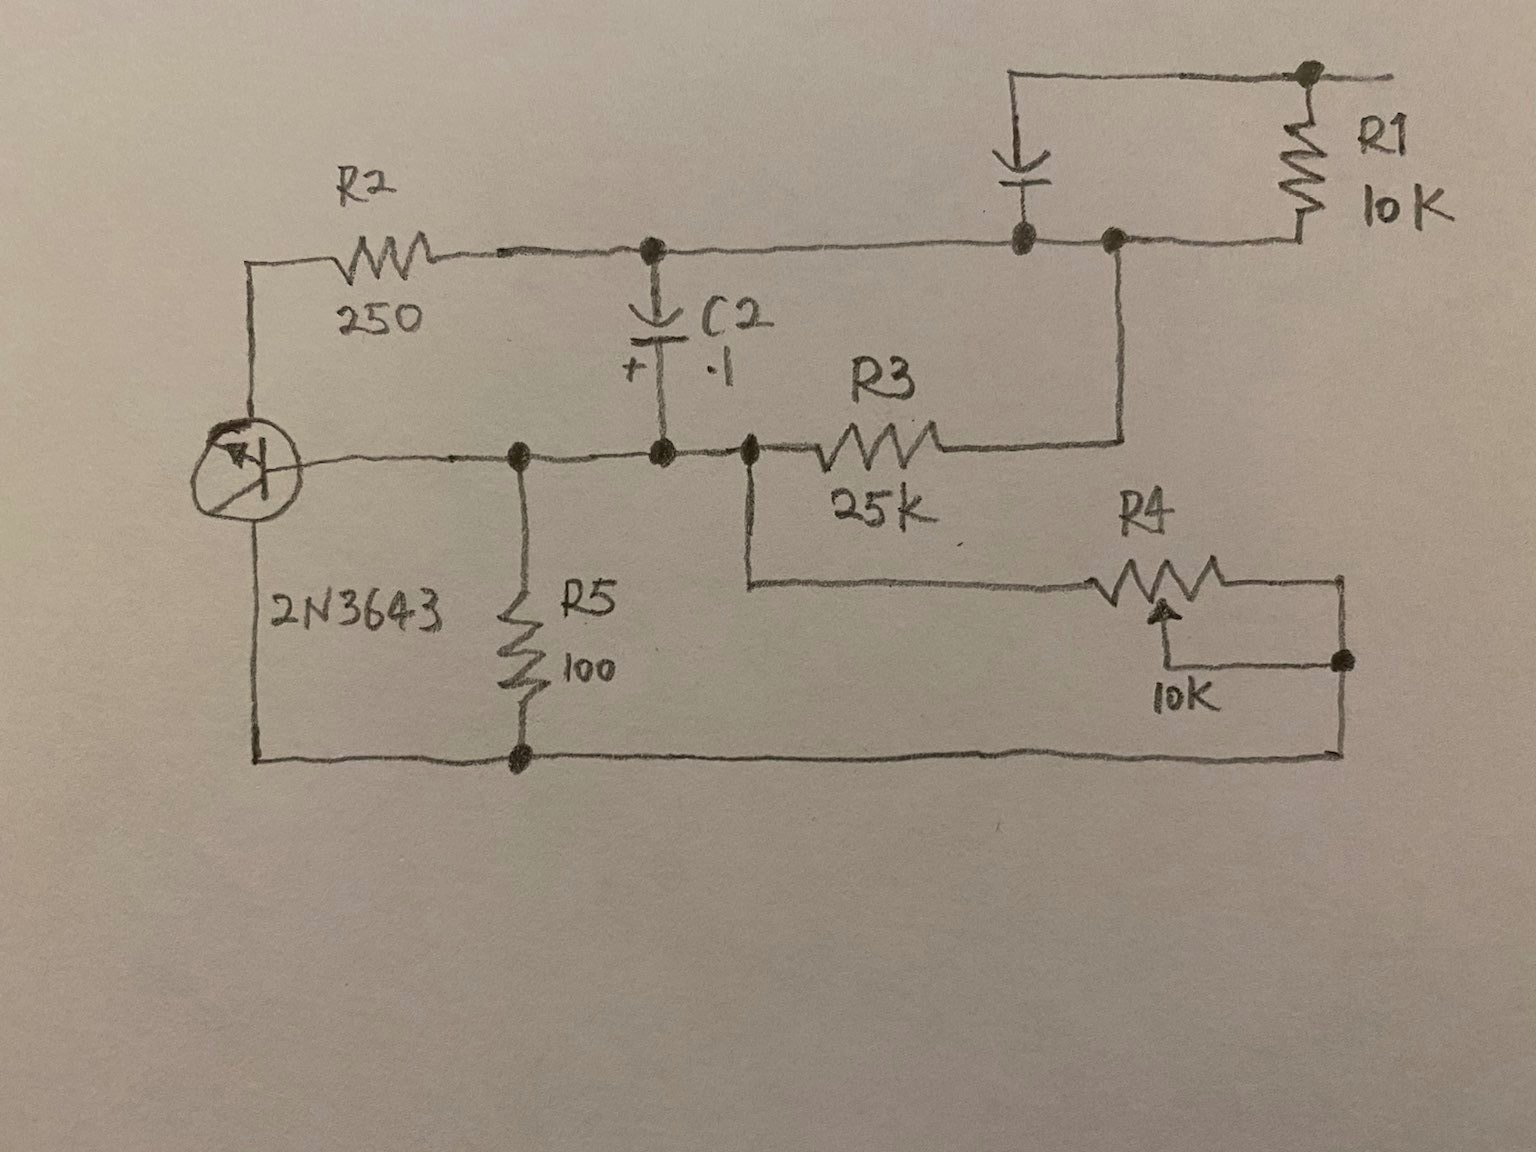capacitor.polarized: (619, 301, 692, 384)
capacitor.unpolarized: (989, 145, 1066, 190)
junction: (618, 220, 691, 277), (487, 728, 553, 790), (635, 424, 691, 482), (1089, 215, 1144, 263), (999, 211, 1049, 263), (491, 432, 545, 479), (1286, 48, 1335, 99), (1317, 730, 1365, 781), (236, 735, 283, 784), (1317, 635, 1364, 684), (726, 427, 775, 473), (1313, 559, 1363, 601), (994, 54, 1038, 100), (1098, 417, 1142, 462), (731, 563, 772, 604), (229, 244, 271, 281), (1280, 223, 1313, 259), (1157, 659, 1178, 674)
resistor: (493, 584, 554, 718), (812, 417, 954, 473), (330, 229, 445, 290), (1277, 114, 1330, 219)
resistor.adjustable: (1084, 549, 1237, 628)
terminal: (1363, 54, 1420, 91)
text: (268, 586, 445, 641), (1353, 178, 1467, 238), (826, 480, 940, 538), (843, 349, 923, 413), (333, 293, 431, 340), (333, 151, 402, 214), (1114, 480, 1179, 545), (1355, 106, 1421, 165), (555, 570, 622, 627), (699, 290, 776, 339), (1149, 673, 1223, 722), (698, 345, 753, 394), (559, 646, 626, 686)
transistor: (181, 407, 316, 529)
